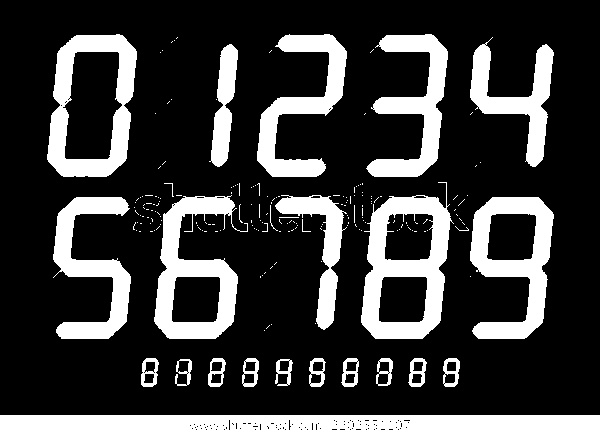eight: (362, 196, 450, 340)
five: (54, 197, 128, 341)
four: (470, 43, 554, 166)
nine: (469, 196, 554, 339)
one: (209, 42, 239, 169)
seven: (275, 198, 343, 329)
six: (154, 198, 238, 340)
three: (368, 32, 448, 176)
two: (257, 33, 347, 176)
zero: (45, 35, 137, 176)
